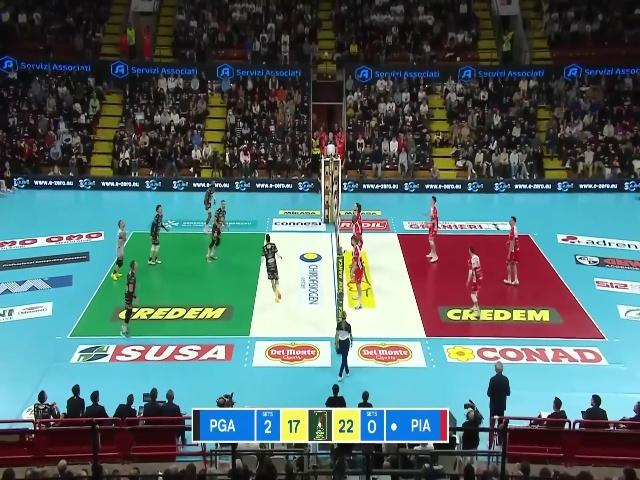volleyball court: (69, 230, 612, 337)
